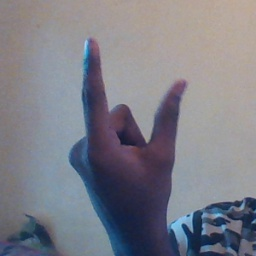U: (59, 33, 196, 205)
